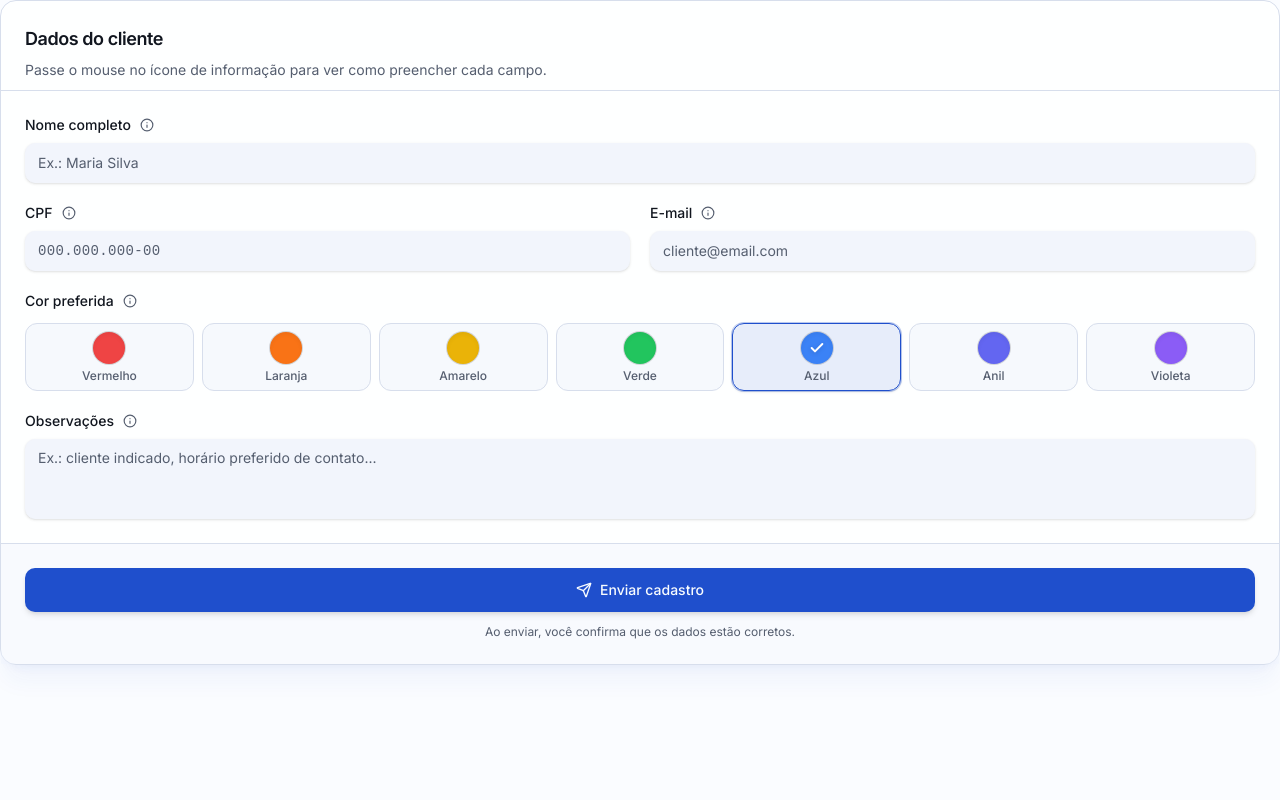
Test: ClientRegistrationForm › should submit valid data and show success message
Type "John Doe" into the field labelled "Nome completo" at (640, 163), box [25, 143, 1255, 183]
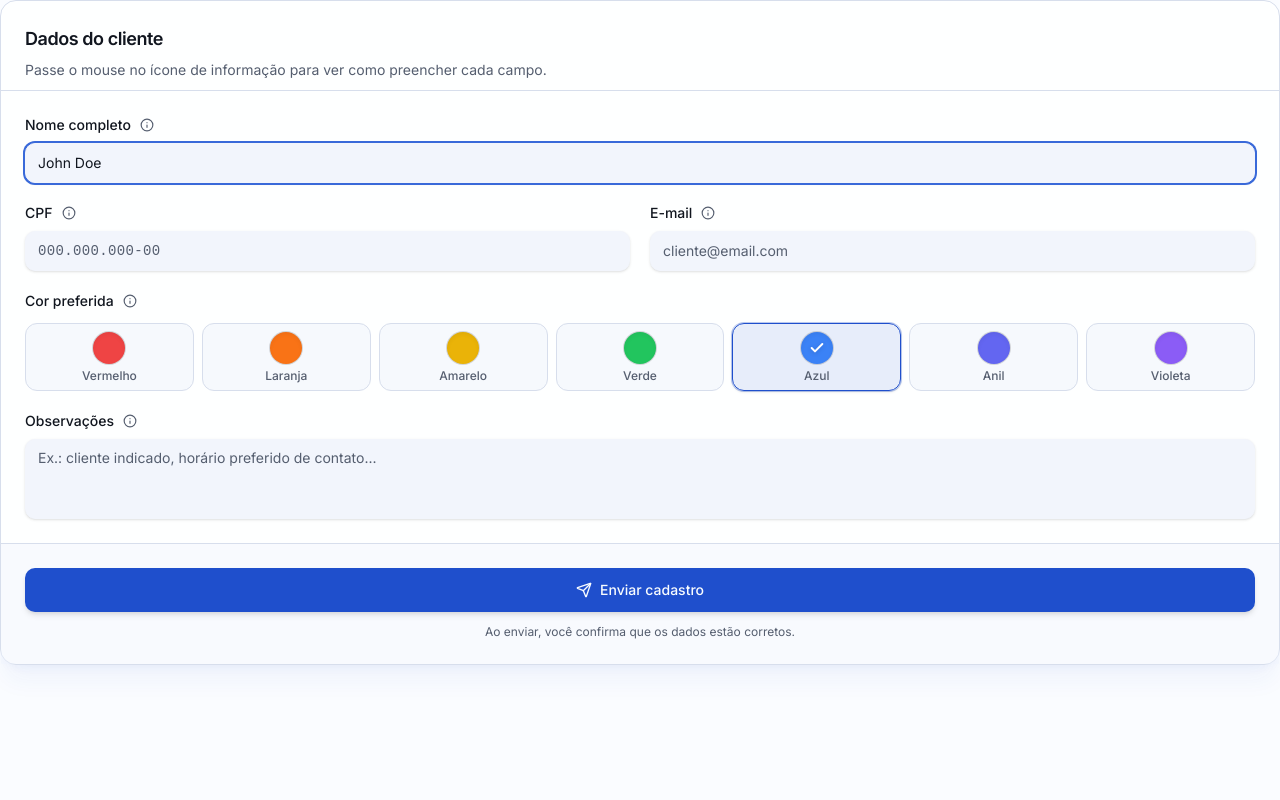
Type "52998224725" into the field labelled "CPF" at (328, 251), box [25, 231, 630, 271]
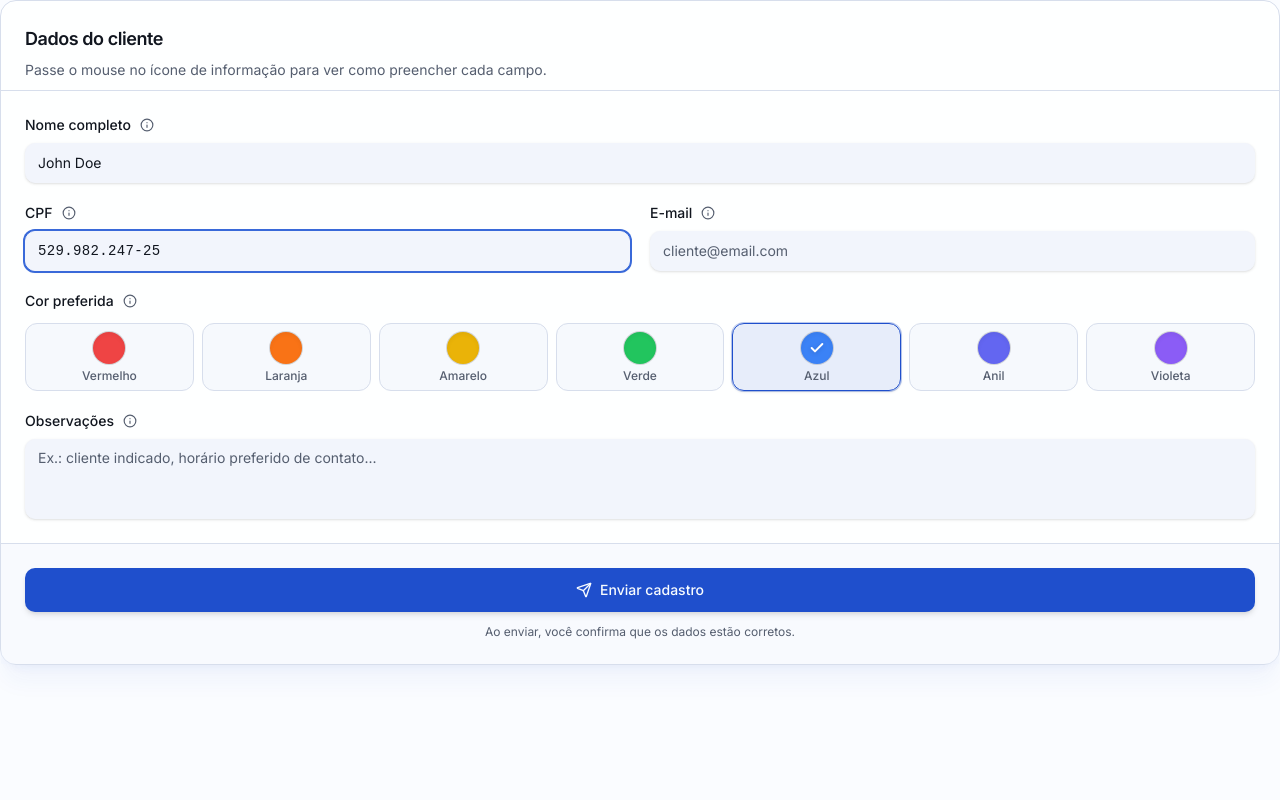
Type "john@example.com" into the field with placeholder "cliente@email.com" at (952, 251), box [650, 231, 1255, 271]
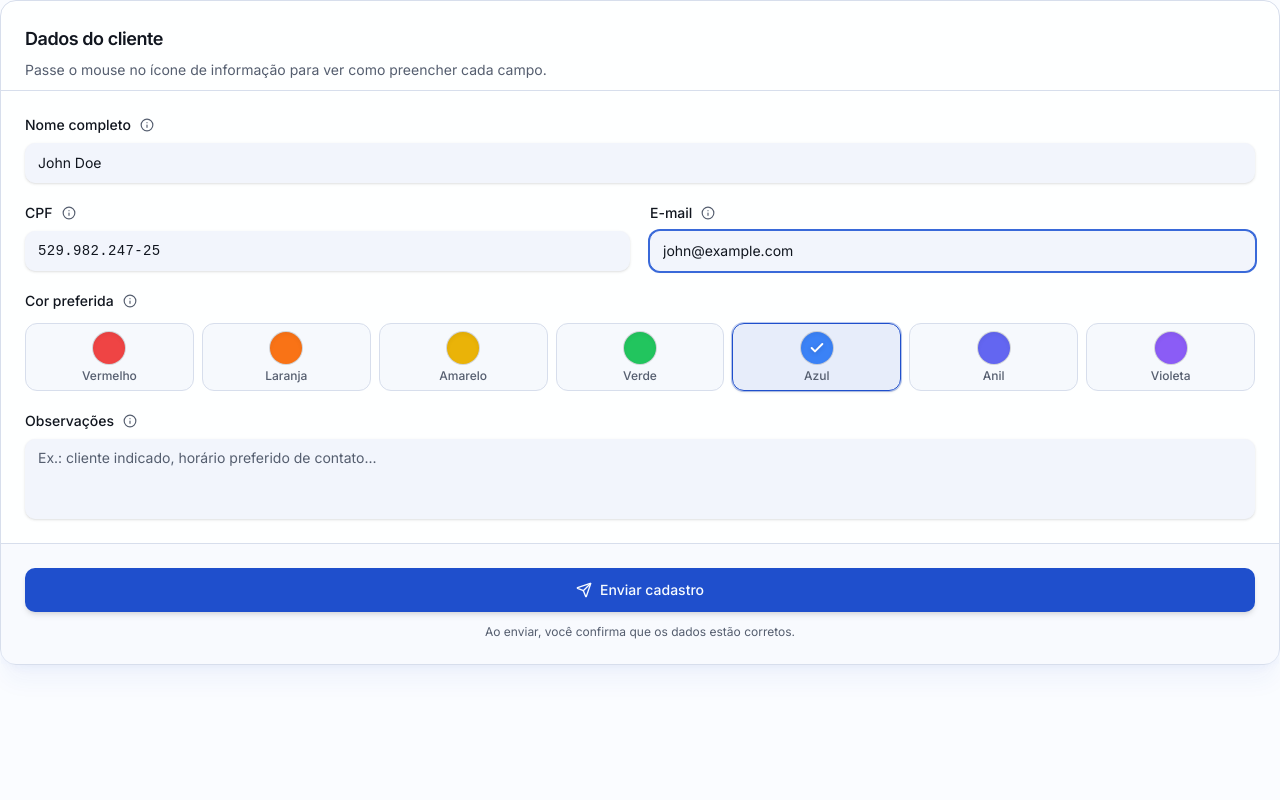
Click the button "Enviar cadastro" at (640, 590), box [25, 568, 1255, 612]
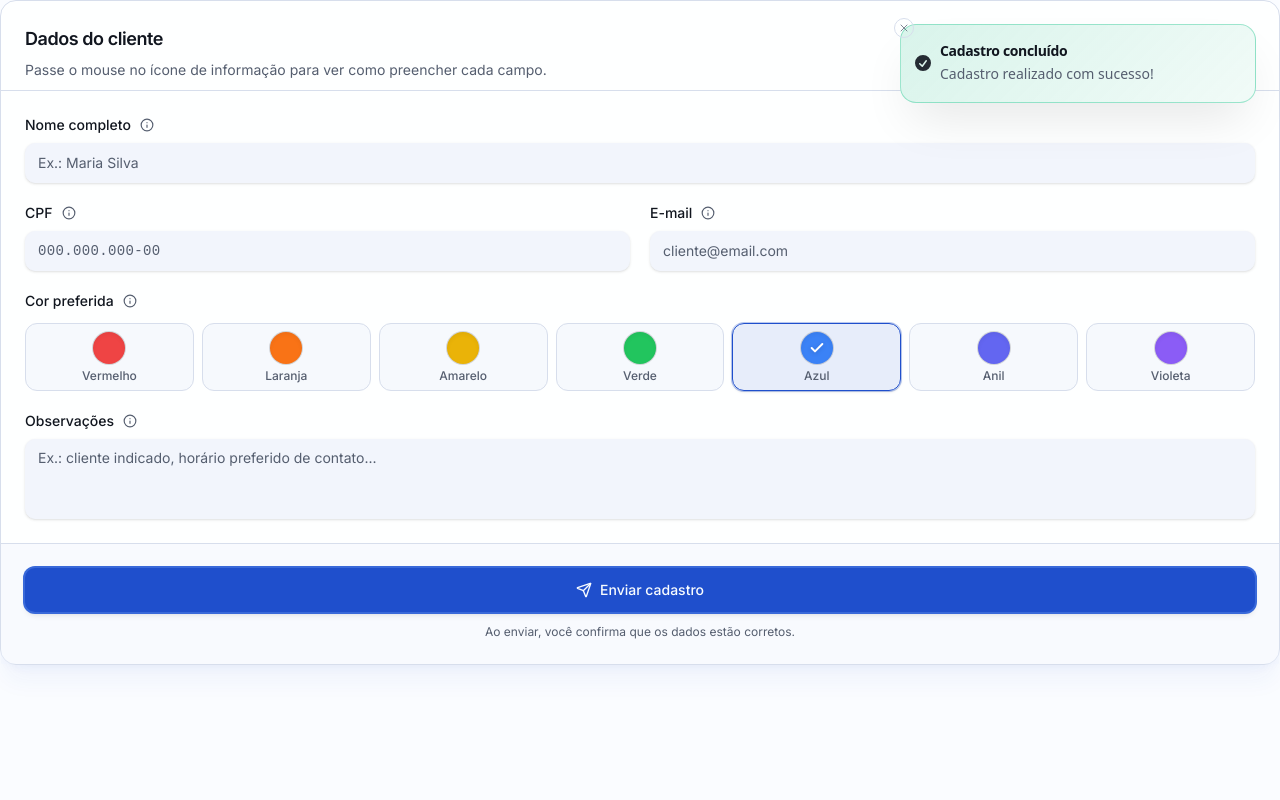
Expected: the text "Cadastro realizado com sucesso!" is shown, [940, 63, 1154, 86]
